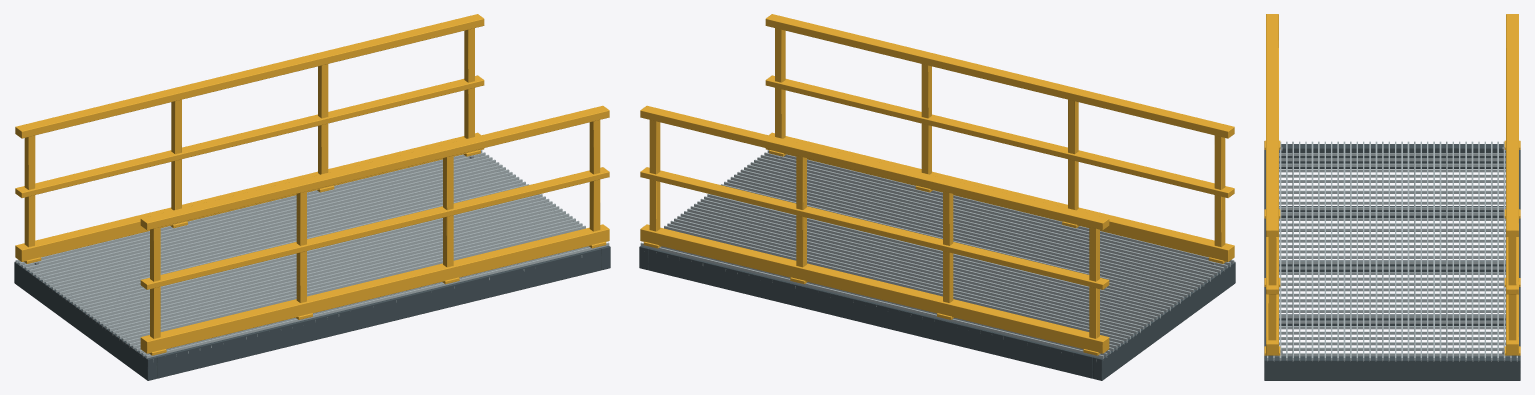
The picture shows the model from 3 angles, left to right: view 1: azimuth 30°, elevation 25°; view 2: azimuth 150°, elevation 25°; view 3: azimuth 270°, elevation 25°; orthographic projection. The views are drawn at different scales.
Visible parts, largest first — view 1: SM_NPP_Catwalk_Straight_4m_A; view 2: SM_NPP_Catwalk_Straight_4m_A; view 3: SM_NPP_Catwalk_Straight_4m_A.
Part boxes in pixels (left/top/right/bottom): SM_NPP_Catwalk_Straight_4m_A: left=14, top=14, right=610, bottom=380; SM_NPP_Catwalk_Straight_4m_A: left=639, top=14, right=1235, bottom=380; SM_NPP_Catwalk_Straight_4m_A: left=1264, top=14, right=1520, bottom=380.
Size of the model in its own units: 4 by 1.3 by 2.
